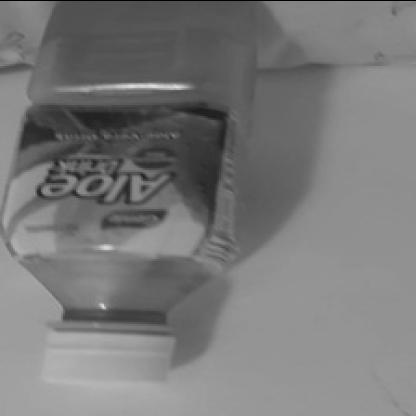plastic_bottles: (0, 0, 264, 386)
